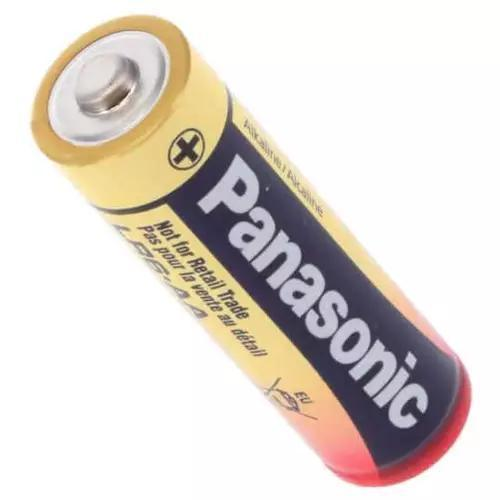AA: (28, 11, 481, 492)
